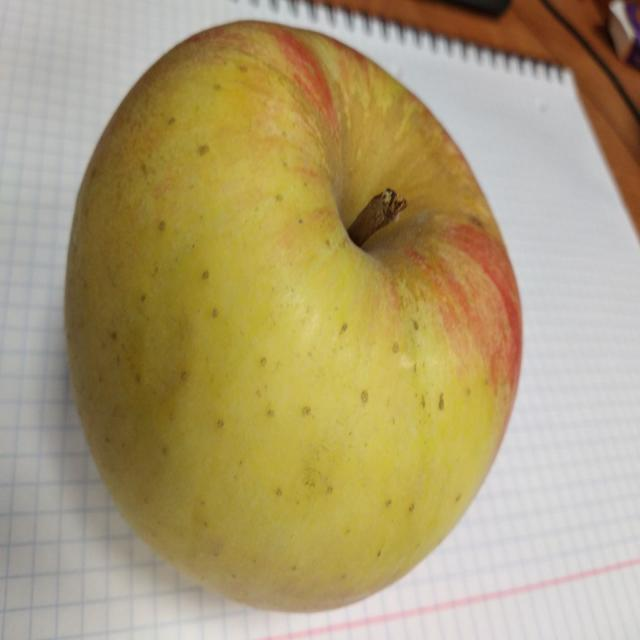Fresh Apple: (106, 33, 516, 640)
